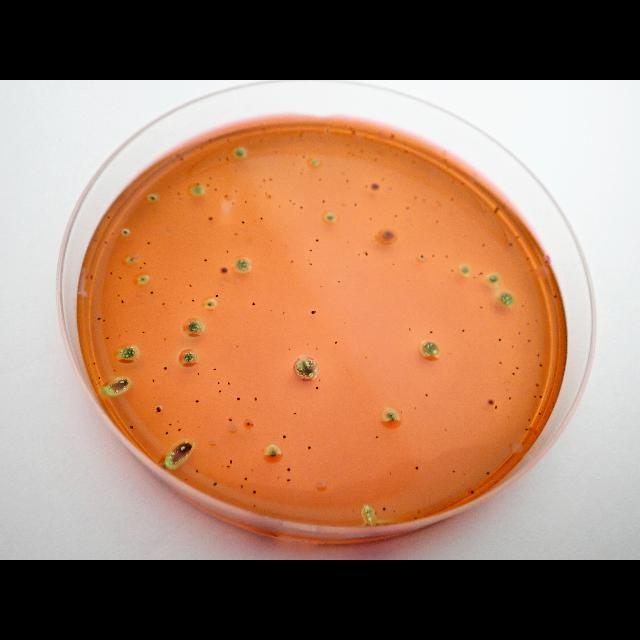colony: (165, 439, 195, 469), (292, 354, 320, 382), (108, 377, 136, 393), (116, 344, 138, 360), (422, 340, 441, 358), (384, 408, 401, 426), (185, 319, 203, 335), (180, 349, 198, 365), (234, 256, 250, 274), (500, 292, 514, 308), (379, 229, 397, 241), (234, 146, 246, 158), (268, 448, 278, 458), (488, 274, 498, 284), (460, 265, 470, 275), (192, 186, 204, 194), (122, 228, 130, 238), (326, 212, 334, 222), (148, 194, 158, 202), (370, 183, 380, 191), (309, 158, 319, 166), (220, 266, 228, 274), (206, 300, 214, 308), (129, 256, 135, 264), (106, 214, 112, 222), (156, 406, 162, 414), (487, 399, 495, 405), (494, 206, 500, 214), (146, 240, 152, 246), (110, 230, 116, 236), (140, 276, 146, 282), (96, 316, 102, 322), (368, 216, 374, 222), (104, 240, 108, 246), (109, 270, 113, 276), (90, 274, 94, 280), (104, 336, 110, 340), (92, 360, 96, 366), (129, 424, 133, 430), (195, 398, 199, 404), (286, 478, 292, 482), (282, 435, 288, 439), (366, 508, 370, 514), (382, 506, 386, 512), (420, 254, 424, 260), (364, 251, 368, 257), (208, 216, 214, 220), (150, 290, 154, 296), (414, 466, 420, 470), (408, 326, 412, 332), (481, 242, 485, 248), (354, 202, 358, 208), (364, 184, 368, 190), (302, 154, 306, 160), (180, 156, 184, 162), (172, 158, 176, 164), (325, 127, 329, 133), (553, 294, 557, 300), (425, 392, 429, 398), (314, 386, 320, 390), (233, 232, 239, 236), (255, 396, 258, 402), (143, 262, 147, 266), (94, 238, 98, 242), (97, 228, 101, 232), (118, 276, 122, 280), (120, 300, 124, 304), (102, 319, 106, 323), (98, 376, 102, 380), (90, 379, 94, 383), (168, 422, 172, 426), (165, 431, 169, 435), (178, 428, 182, 432), (213, 482, 217, 486), (227, 464, 231, 468), (252, 490, 256, 494), (287, 468, 291, 472), (246, 421, 250, 425), (228, 418, 232, 422), (414, 516, 418, 520), (471, 490, 475, 494), (486, 471, 490, 475), (528, 418, 532, 422), (508, 396, 512, 400), (494, 405, 498, 409), (499, 361, 503, 365), (512, 372, 516, 376), (527, 339, 531, 343), (498, 338, 502, 342), (520, 304, 524, 308), (534, 318, 538, 322), (445, 254, 449, 258), (309, 248, 313, 252), (203, 258, 207, 262), (215, 294, 219, 298), (252, 302, 256, 306), (142, 331, 146, 335), (164, 366, 168, 370), (196, 372, 200, 376), (218, 389, 222, 393), (236, 397, 240, 401), (375, 435, 379, 439), (508, 242, 512, 246), (406, 206, 410, 210), (309, 262, 313, 266), (290, 260, 294, 264), (345, 179, 349, 183), (318, 178, 322, 182), (301, 167, 305, 171), (263, 178, 267, 182), (258, 184, 262, 188), (264, 190, 268, 194), (234, 168, 238, 172), (225, 157, 229, 161), (218, 158, 222, 162), (224, 194, 228, 198), (176, 154, 180, 158), (208, 138, 212, 142), (274, 150, 278, 154), (374, 158, 378, 162), (414, 196, 418, 200), (435, 220, 439, 224), (526, 256, 530, 260), (318, 378, 322, 382), (334, 340, 338, 344), (306, 342, 310, 346), (288, 348, 292, 352), (311, 310, 315, 314), (337, 280, 341, 284), (118, 292, 120, 298), (152, 378, 154, 384), (196, 468, 198, 474), (185, 478, 188, 482), (245, 477, 248, 481), (240, 484, 243, 488), (215, 188, 218, 192), (207, 183, 210, 187), (196, 182, 200, 185), (212, 368, 218, 370), (218, 380, 220, 386), (228, 380, 230, 386), (480, 304, 482, 310), (394, 215, 398, 218), (346, 240, 349, 244), (268, 195, 272, 198), (227, 138, 230, 142), (245, 200, 248, 203), (140, 266, 142, 270), (114, 368, 116, 372), (95, 382, 97, 386), (230, 460, 232, 464), (254, 504, 256, 508), (308, 445, 310, 449), (252, 423, 254, 427), (293, 412, 297, 414), (375, 512, 377, 516), (452, 470, 456, 472), (525, 428, 529, 430), (538, 412, 540, 416), (540, 395, 542, 399), (540, 363, 542, 367), (537, 353, 539, 357), (536, 383, 538, 387), (512, 344, 514, 348), (527, 322, 529, 326), (451, 270, 455, 272), (393, 262, 395, 266), (316, 238, 318, 242), (322, 200, 324, 204), (288, 200, 292, 202), (188, 284, 192, 286), (192, 299, 194, 303), (162, 302, 164, 306), (461, 330, 465, 332), (430, 330, 432, 334), (382, 178, 384, 182), (300, 172, 304, 174), (269, 178, 273, 180), (422, 198, 424, 202), (118, 334, 122, 336), (314, 310, 316, 314), (282, 311, 284, 315), (270, 309, 272, 313), (236, 344, 238, 348), (516, 366, 518, 369), (481, 272, 484, 274), (432, 255, 434, 258), (293, 202, 295, 205), (260, 217, 262, 220), (242, 220, 244, 223), (210, 177, 212, 180), (178, 192, 180, 195), (451, 198, 454, 200), (508, 381, 510, 384), (177, 421, 180, 423), (153, 396, 155, 399), (165, 278, 168, 280), (401, 411, 403, 414), (414, 406, 416, 409), (98, 382, 100, 384), (393, 510, 395, 512), (534, 395, 536, 397), (518, 332, 520, 334), (478, 274, 480, 276), (473, 276, 475, 278), (358, 254, 360, 256), (300, 206, 302, 208), (232, 202, 234, 204), (235, 190, 237, 192), (226, 250, 228, 252), (506, 389, 508, 391), (504, 382, 506, 384), (390, 472, 392, 474), (252, 469, 254, 471), (198, 426, 200, 428), (126, 330, 128, 332), (164, 338, 166, 340), (180, 302, 182, 304), (316, 348, 318, 350)
